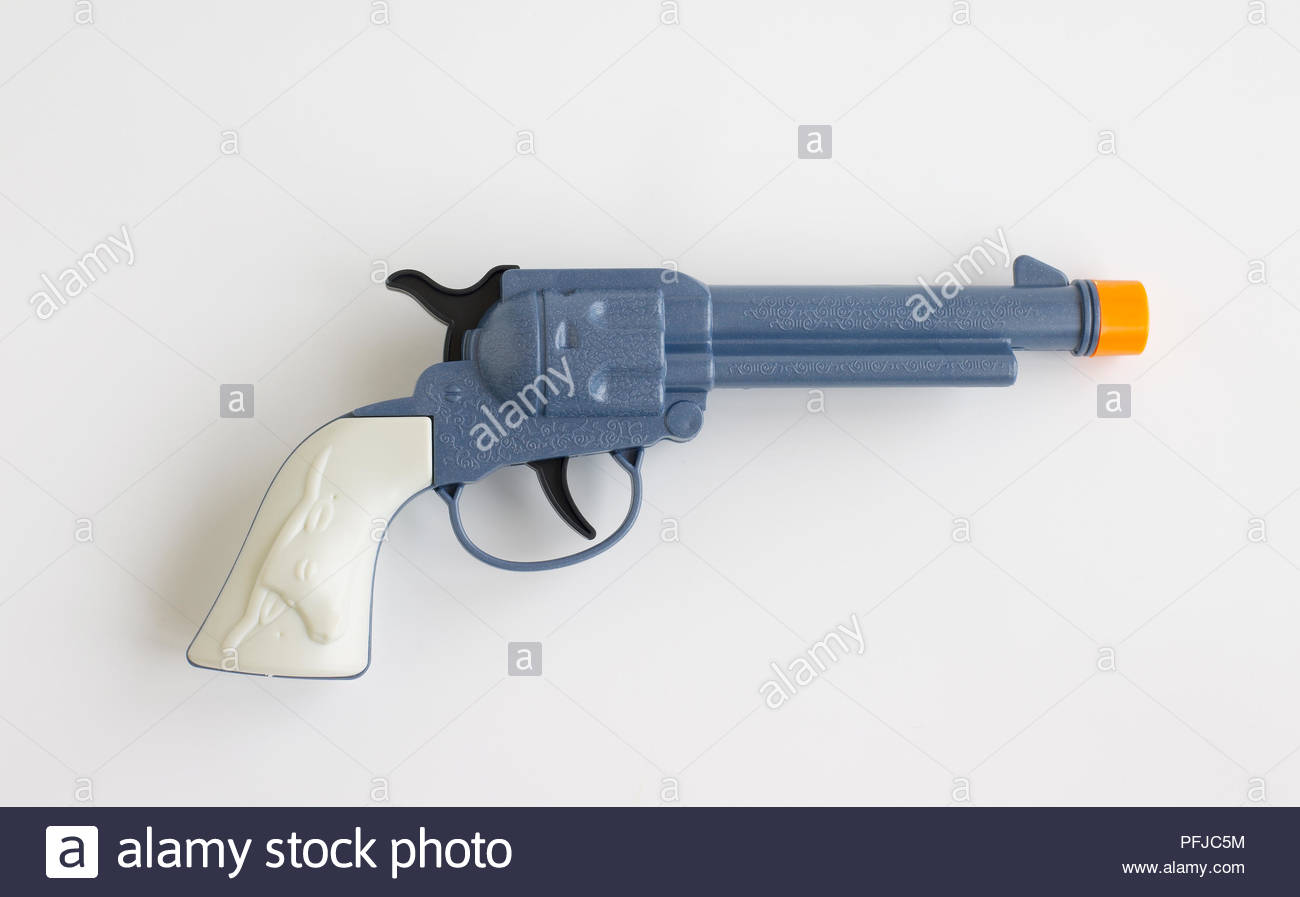Arma Falsa: (186, 253, 1162, 674)
